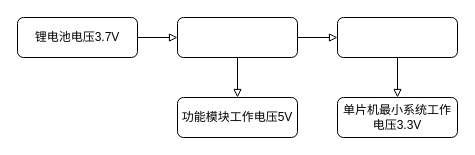
This 475x155 diagram has some shape labels left out. The centre of each missing label's shape, as x and y in pixels:
"AMS1117LDO降压3.3V" belongs at point (397, 37).
"IP5306升压至5V" belongs at point (237, 37).
